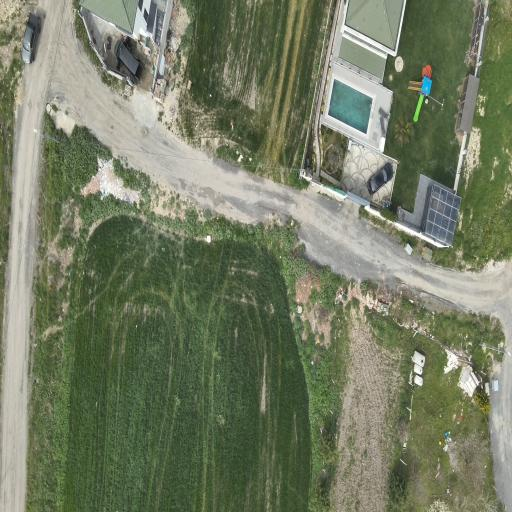car: (115, 40, 142, 82), (22, 12, 40, 63), (367, 163, 393, 194)
